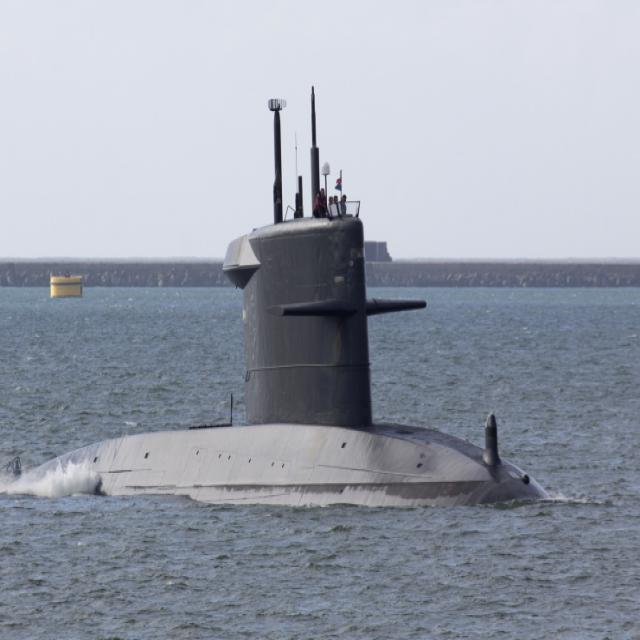submarine: (6, 94, 547, 496)
